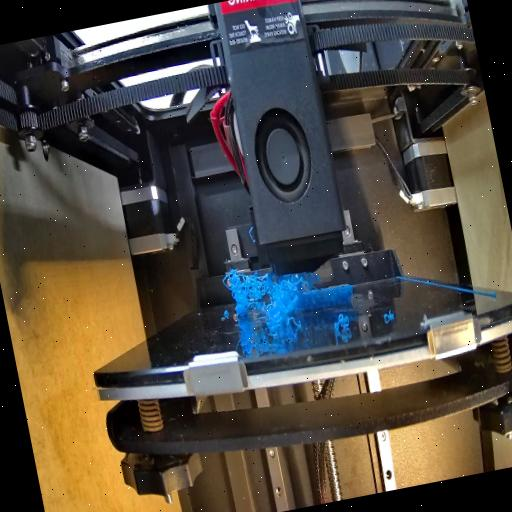spaghetti: (230, 268, 312, 328), (330, 310, 354, 334)
